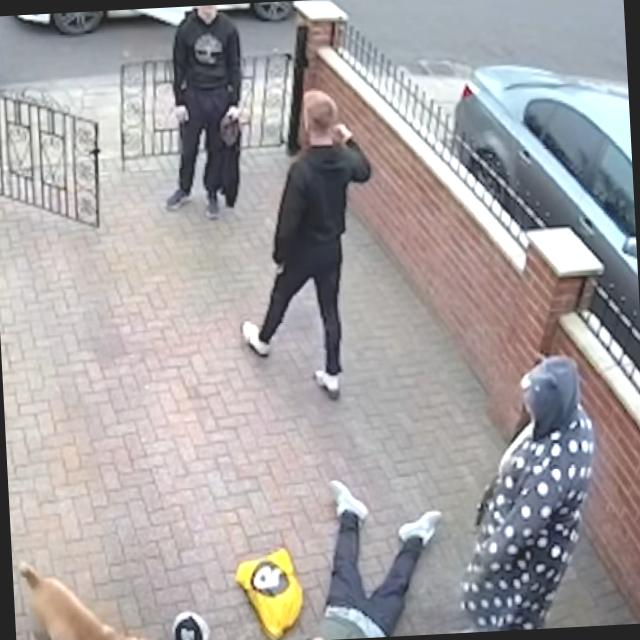person: (229, 85, 385, 403), (449, 354, 604, 632), (305, 475, 449, 640), (156, 4, 249, 221)
